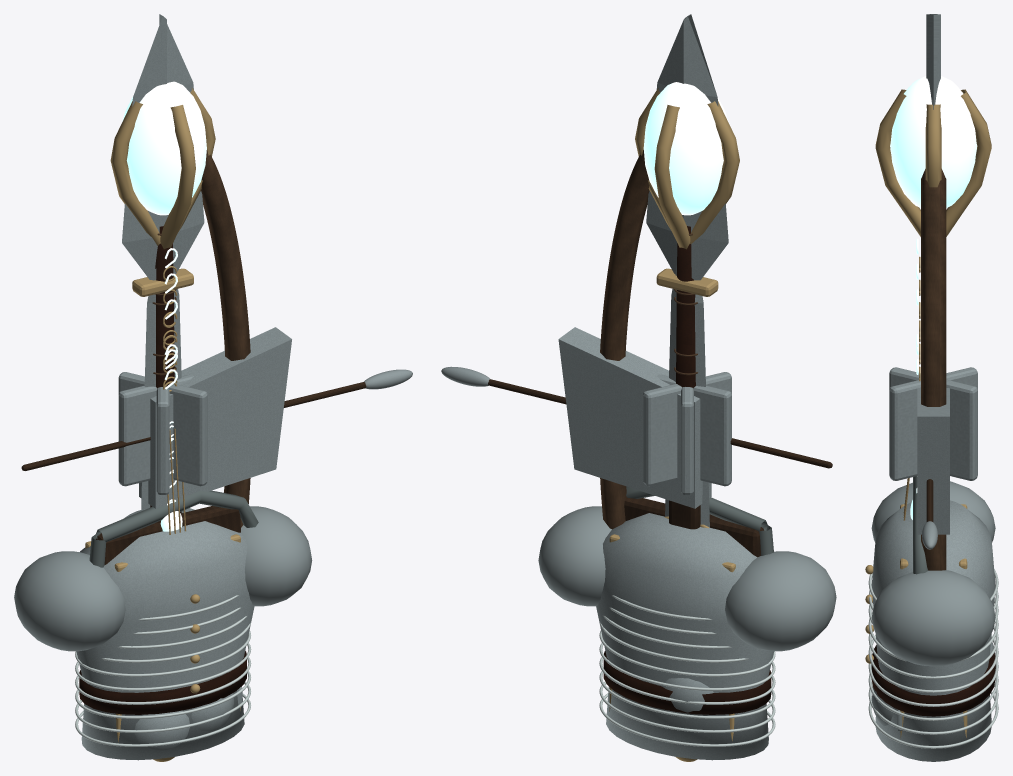
The model's file is catalogue.glb.
3 renders of one model, left to right at view 1: azimuth 30°, elevation 25°; view 2: azimuth 150°, elevation 25°; view 3: azimuth 270°, elevation 25°, orthographic.
Visible parts, largest first — view 1: Part_Blade metal.009, Part_Blade metal.011, Part_Blade metal.002, Part_Inscription.033, Mail_Steel, Part_Oak cut edge.012, Part_Blade metal, Part_Fitting metal.013, Part_Grip leather.005, Part_Blackened iron.020, Part_Blade metal.003, Part_Oak honey.017 (+5 smaller); view 2: Part_Blade metal.009, Part_Blade metal.011, Part_Blade metal.002, Part_Inscription.033, Part_Oak cut edge.012, Mail_Steel, Part_Blade metal, Part_Fitting metal.013, Part_Grip leather.005, Part_Grip leather.010, Part_Blade metal.012, Part_Oak honey.017 (+6 smaller); view 3: Part_Blade metal.009, Part_Inscription.033, Part_Oak cut edge.012, Part_Blade metal.002, Part_Fitting metal.013, Mail_Steel, Part_Blade metal.011, Part_Grip leather.005, Part_Blade metal, Part_Blackened iron.020, Part_Blade metal.003, Part_Blade metal.008 (+2 smaller).
Part boxes in pixels (x1,y1,x2,y2): Part_Blade metal.009: [14, 506, 312, 760]; Part_Blade metal.011: [139, 327, 291, 508]; Part_Blade metal.002: [118, 372, 207, 494]; Part_Inscription.033: [122, 81, 206, 215]; Mail_Steel: [75, 595, 251, 746]; Part_Oak cut edge.012: [201, 149, 250, 527]; Part_Blade metal: [122, 14, 204, 279]; Part_Fitting metal.013: [110, 88, 215, 249]; Part_Grip leather.005: [79, 651, 246, 714]; Part_Blackened iron.020: [89, 490, 258, 567]; Part_Blade metal.003: [134, 693, 233, 750]; Part_Oak honey.017: [95, 506, 240, 564]; Part_Blade metal.009: [538, 506, 836, 760]; Part_Blade metal.011: [558, 327, 711, 508]; Part_Blade metal.002: [643, 372, 731, 494]; Part_Inscription.033: [643, 82, 728, 215]; Part_Oak cut edge.012: [600, 149, 649, 529]; Mail_Steel: [599, 595, 775, 746]; Part_Blade metal: [646, 14, 728, 280]; Part_Fitting metal.013: [635, 88, 739, 249]; Part_Grip leather.005: [603, 651, 771, 714]; Part_Grip leather.010: [676, 226, 695, 388]; Part_Blade metal.012: [665, 266, 709, 527]; Part_Oak honey.017: [624, 497, 763, 557]; Part_Blade metal.009: [871, 481, 995, 761]; Part_Inscription.033: [890, 76, 977, 207]; Part_Oak cut edge.012: [921, 169, 946, 570]; Part_Blade metal.002: [889, 367, 977, 480]; Part_Fitting metal.013: [875, 89, 991, 236]; Mail_Steel: [868, 569, 998, 748]; Part_Blade metal.011: [917, 388, 949, 534]; Part_Grip leather.005: [871, 645, 995, 716]; Part_Blade metal: [926, 14, 940, 109]; Part_Blackened iron.020: [913, 476, 928, 574]; Part_Blade metal.003: [871, 642, 995, 725]; Part_Blade metal.008: [922, 521, 937, 549].
Bounding box in the file's own units: 1.23 × 2.24 × 0.365.
14 materials, 7 textured.
